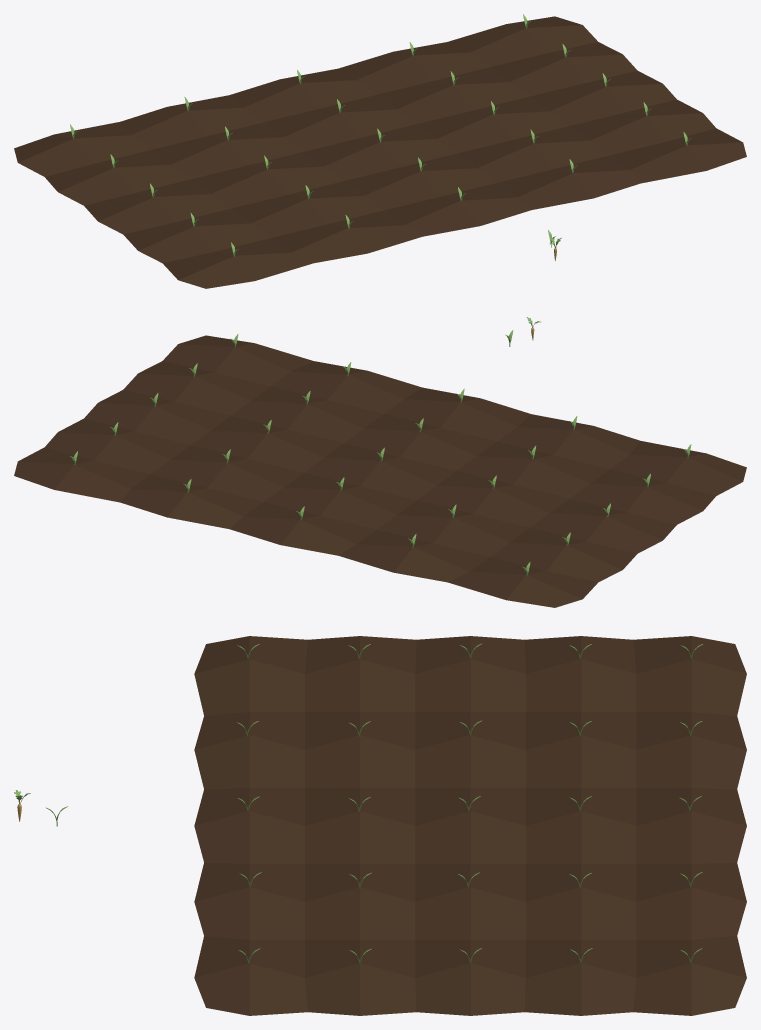
Rendered from HortaCenoura.fbx.
The picture shows the model from 3 angles, top to bottom: view 1: azimuth 30°, elevation 25°; view 2: azimuth 150°, elevation 25°; view 3: azimuth 270°, elevation 25°; orthographic projection. The views are drawn at different scales.
Visible parts, largest first — view 1: Horta; view 2: Horta; view 3: Horta.
Boxes of the visible parts, x1,y1,x2,y2 form: Horta: [14, 14, 746, 288]; Horta: [14, 334, 746, 607]; Horta: [194, 636, 746, 1015].
Size of the model in its own units: 1384 by 71.55 by 1129.
